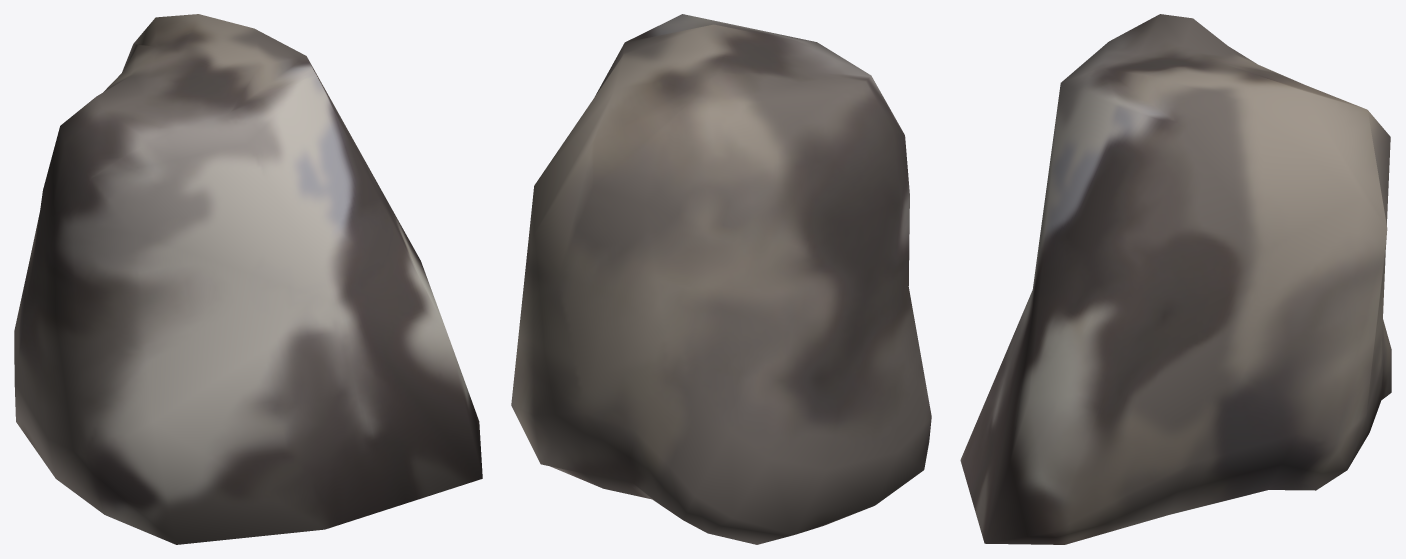
File: Stone_02.fbx
3 renders of one model, left to right at view 1: azimuth 30°, elevation 25°; view 2: azimuth 150°, elevation 25°; view 3: azimuth 270°, elevation 25°, orthographic. The views are drawn at different scales.
Visible parts, largest first — view 1: Stone.001; view 2: Stone.001; view 3: Stone.001.
Boxes of the visible parts, <box> form: Stone.001: <box>14,14,482,544</box>; Stone.001: <box>511,14,931,544</box>; Stone.001: <box>960,14,1391,544</box>.
Size of the model in its own units: 3.2 by 3.5 by 3.21.
